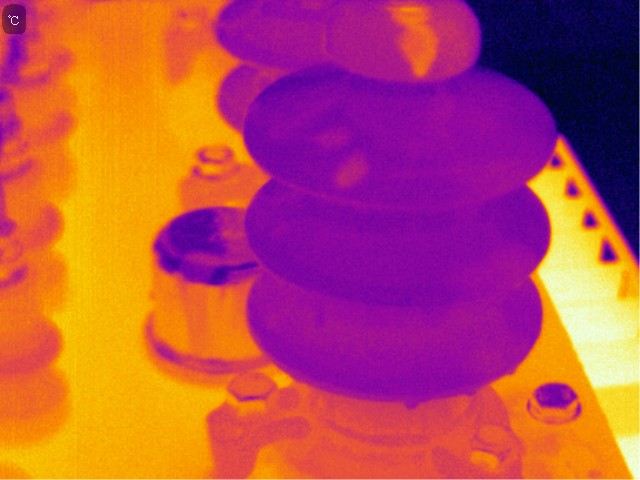Oil: (322, 1, 480, 78), (387, 1, 446, 77), (329, 155, 368, 189), (432, 83, 452, 137), (313, 126, 352, 148), (401, 394, 419, 411), (463, 387, 478, 400), (505, 368, 520, 379)
